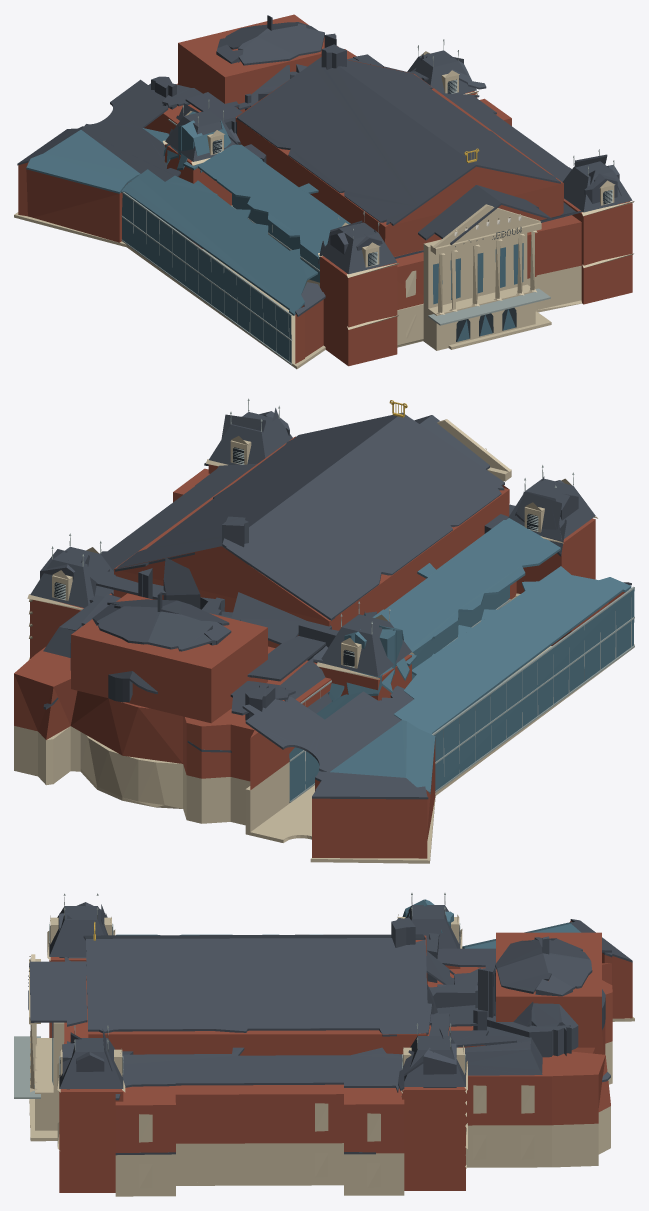
The model's file is concertgebouw.lod1.glb.
3 views of the same model, one above another, from view 1: azimuth 30°, elevation 25°; view 2: azimuth 150°, elevation 25°; view 3: azimuth 270°, elevation 25° (orthographic). The views are drawn at different scales.
Parts seen in each view (by area): view 1: concertgebouw; view 2: concertgebouw; view 3: concertgebouw.
Part boxes in pixels (x1,y1,x2,y2): concertgebouw: [14, 14, 634, 369]; concertgebouw: [14, 398, 634, 863]; concertgebouw: [14, 893, 634, 1196].
Bounding box in the file's own units: 68.45 × 27.84 × 82.65.
